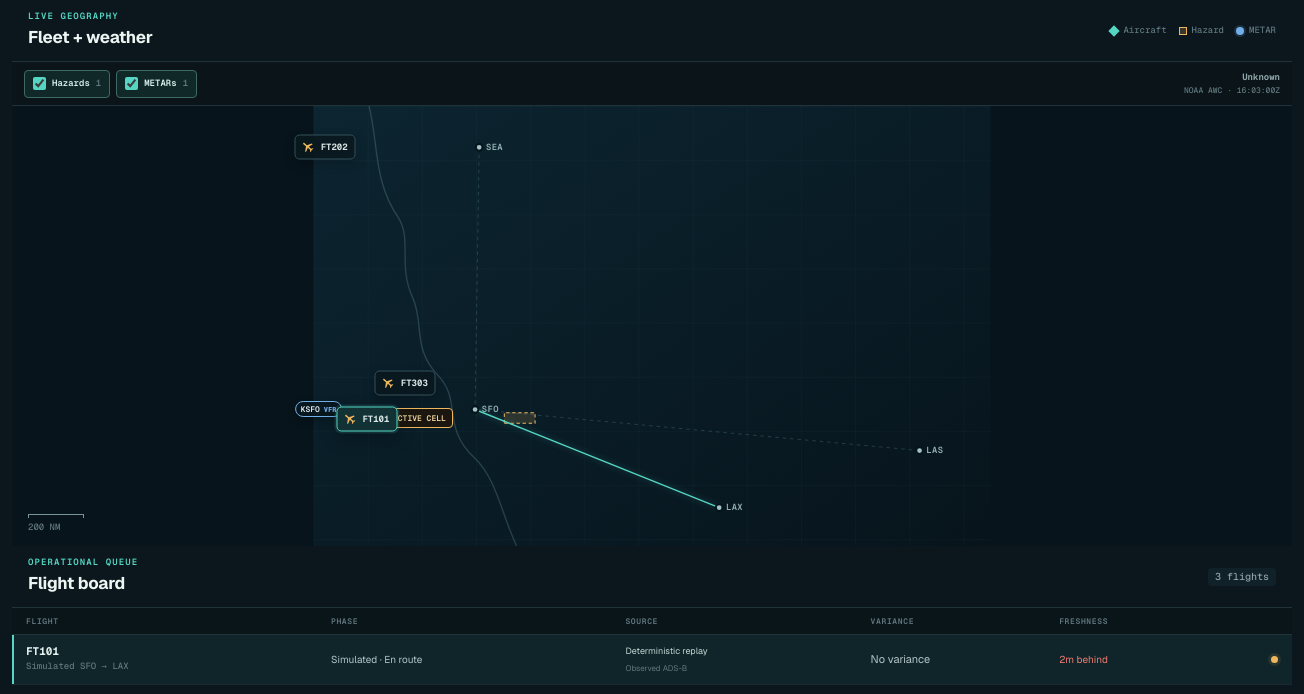
Test: operations console interaction › synchronizes map, board, and detail selection with accessible controls
Step 1. Click the button with aria-label "select ft303, watch attention" → (405, 383), box [375,371,436,396]
(page scrolled)
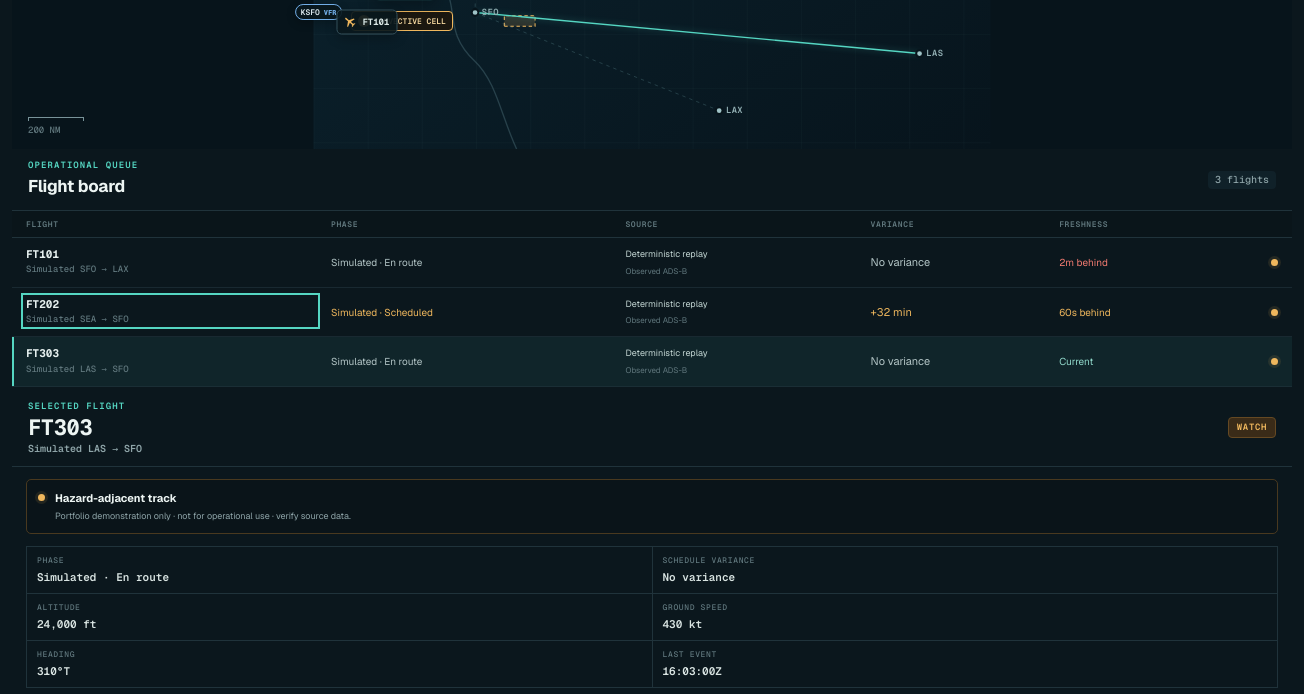
Check: the heading "FT303" is shown, box [28,413,92,441]
Step 2. Press Enter
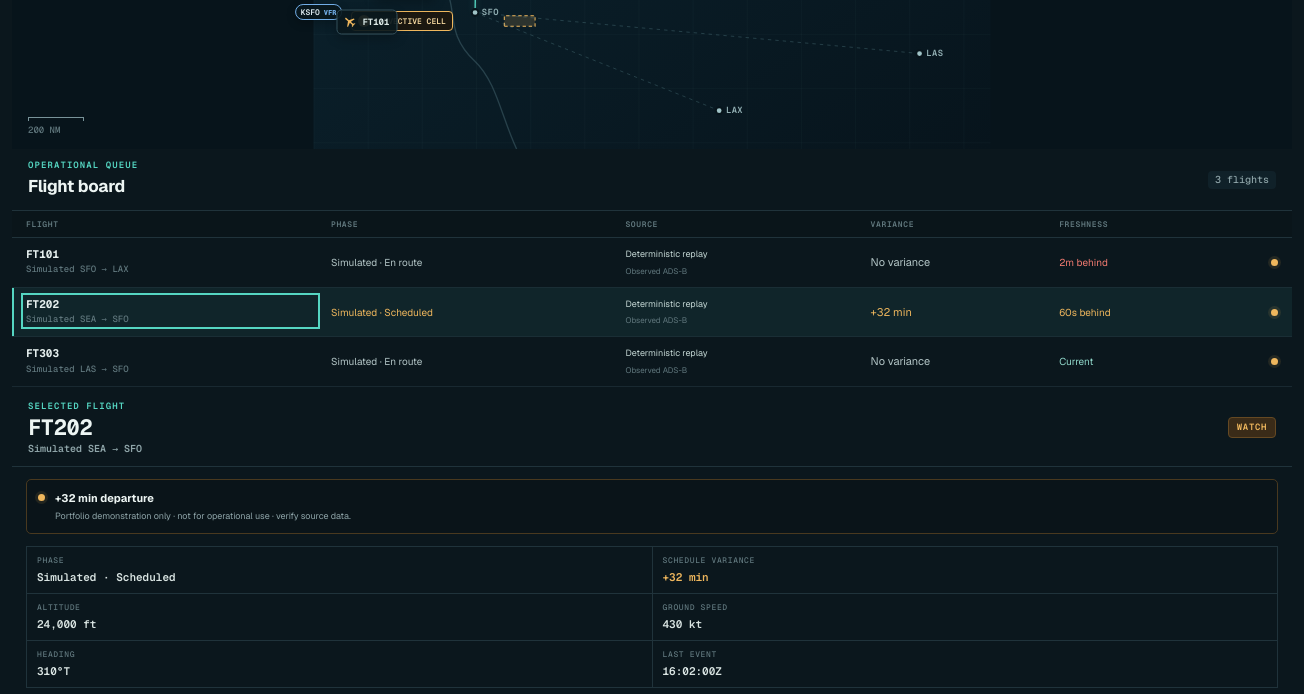
Check: the text "+32 min" is shown 2 times, box [863,287,1051,337]; [662,570,709,584]
Check: the heading "FT202" is shown, box [28,413,92,441]
